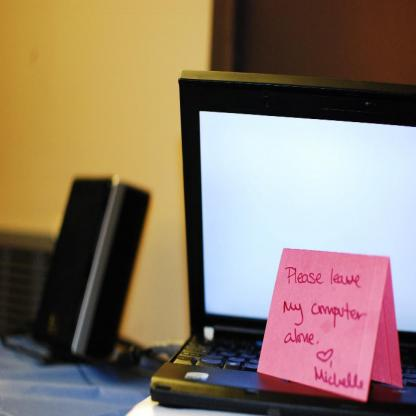board: (149, 65, 416, 412)
